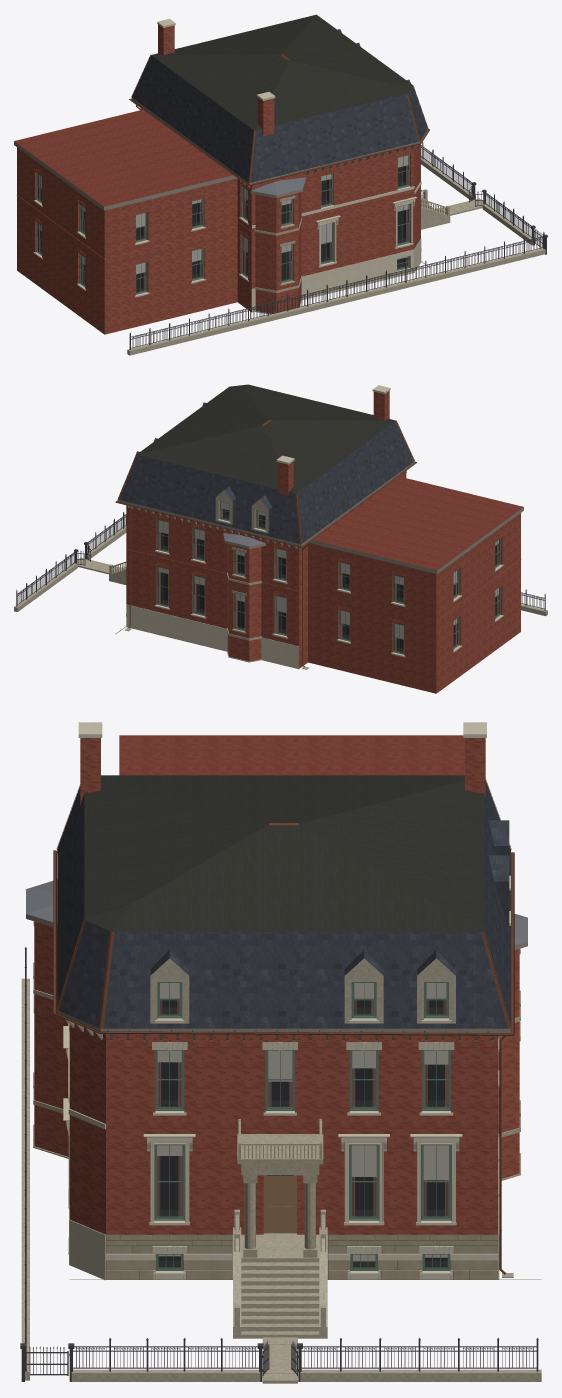
Rendered from buckingham_house_2036_prairie__as_mapped_1904.glb.
3 views of the same model, one above another, from view 1: azimuth 30°, elevation 25°; view 2: azimuth 150°, elevation 25°; view 3: azimuth 270°, elevation 25° (orthographic). The views are drawn at different scales.
Parts seen in each view (by area): view 1: buckingham_house_2036_prairie__as_mapped_1904; view 2: buckingham_house_2036_prairie__as_mapped_1904; view 3: buckingham_house_2036_prairie__as_mapped_1904.
Boxes of the visible parts, bbox=[...] form: buckingham_house_2036_prairie__as_mapped_1904: bbox=[14, 14, 547, 355]; buckingham_house_2036_prairie__as_mapped_1904: bbox=[14, 384, 547, 693]; buckingham_house_2036_prairie__as_mapped_1904: bbox=[20, 722, 541, 1383].
Size of the model in its own units: 33.87 by 16.12 by 18.77.
Materials: 27 (16 with a texture image).
